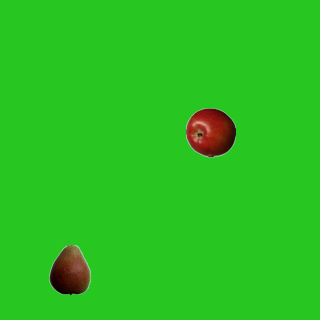Apple Braeburn: (185, 107, 235, 157)
Pear Forelle: (44, 244, 94, 294)
